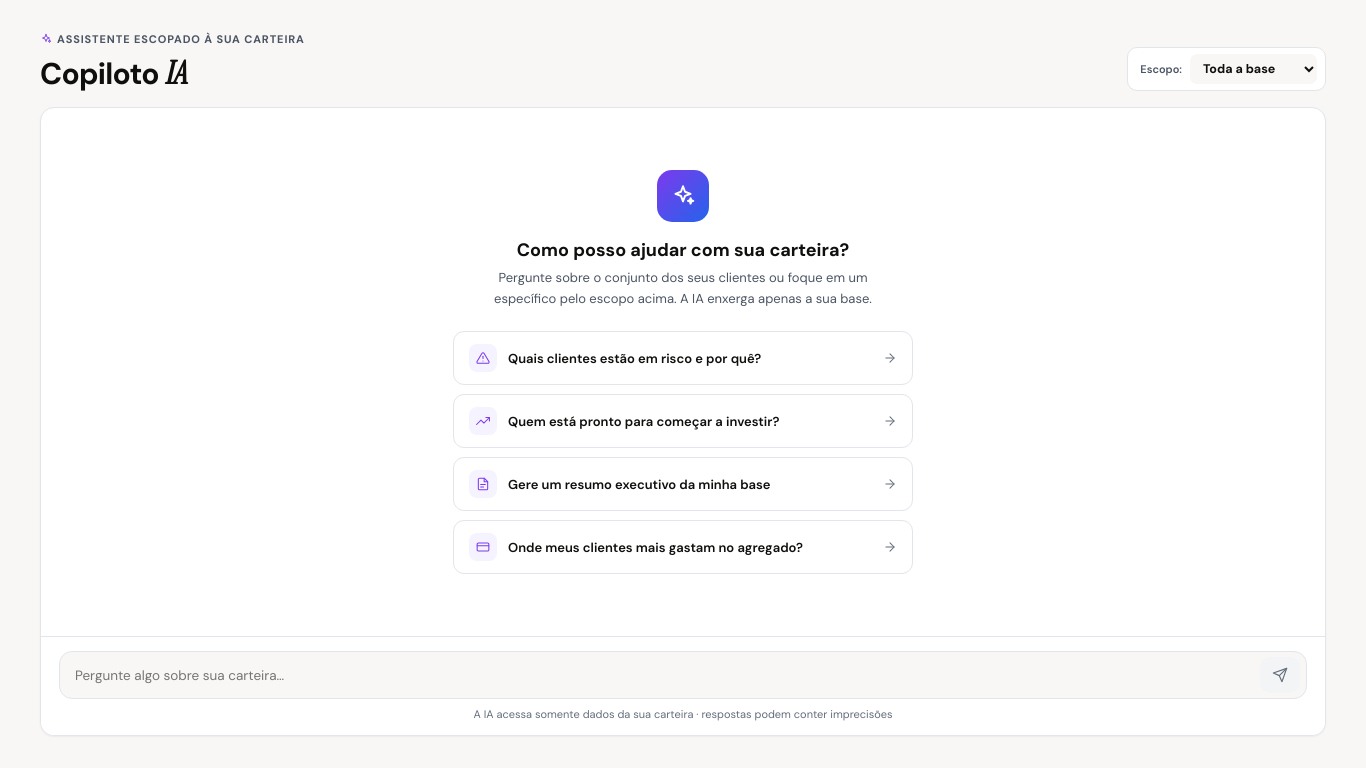
ConsultantCopilotoPage › oferece retentar a mesma pergunta diretamente na mensagem de erro
This screenshot has width=1366, height=768.
In the field named "Mensagem para o Copiloto": (662, 675) 75,658 -> 1250,692, type "onde gastam?"
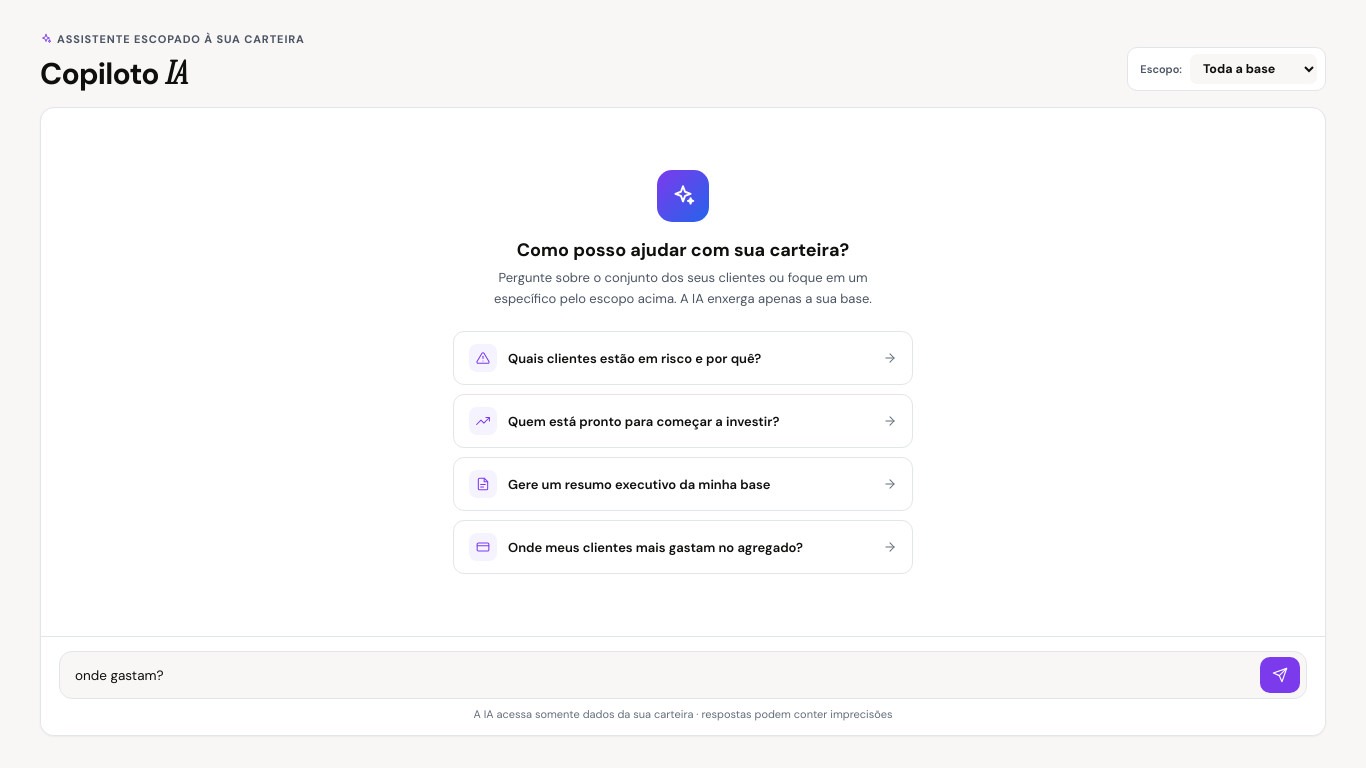
Click the button named "Enviar mensagem": (1280, 675) 1260,657 -> 1300,693
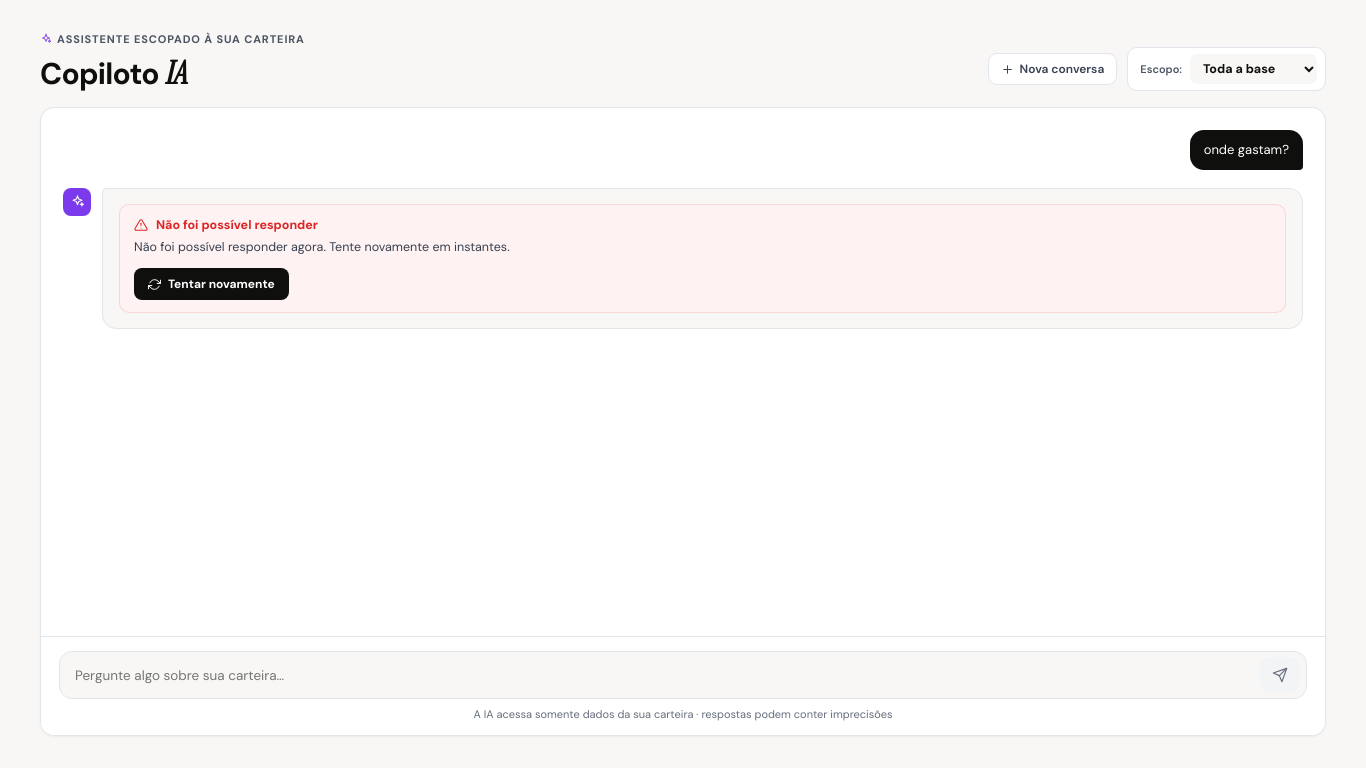
expect the text "onde gastam?" is shown once: met, box 1190,130 -> 1303,170
Click the button "Tentar novamente": (211, 284) 134,268 -> 289,300
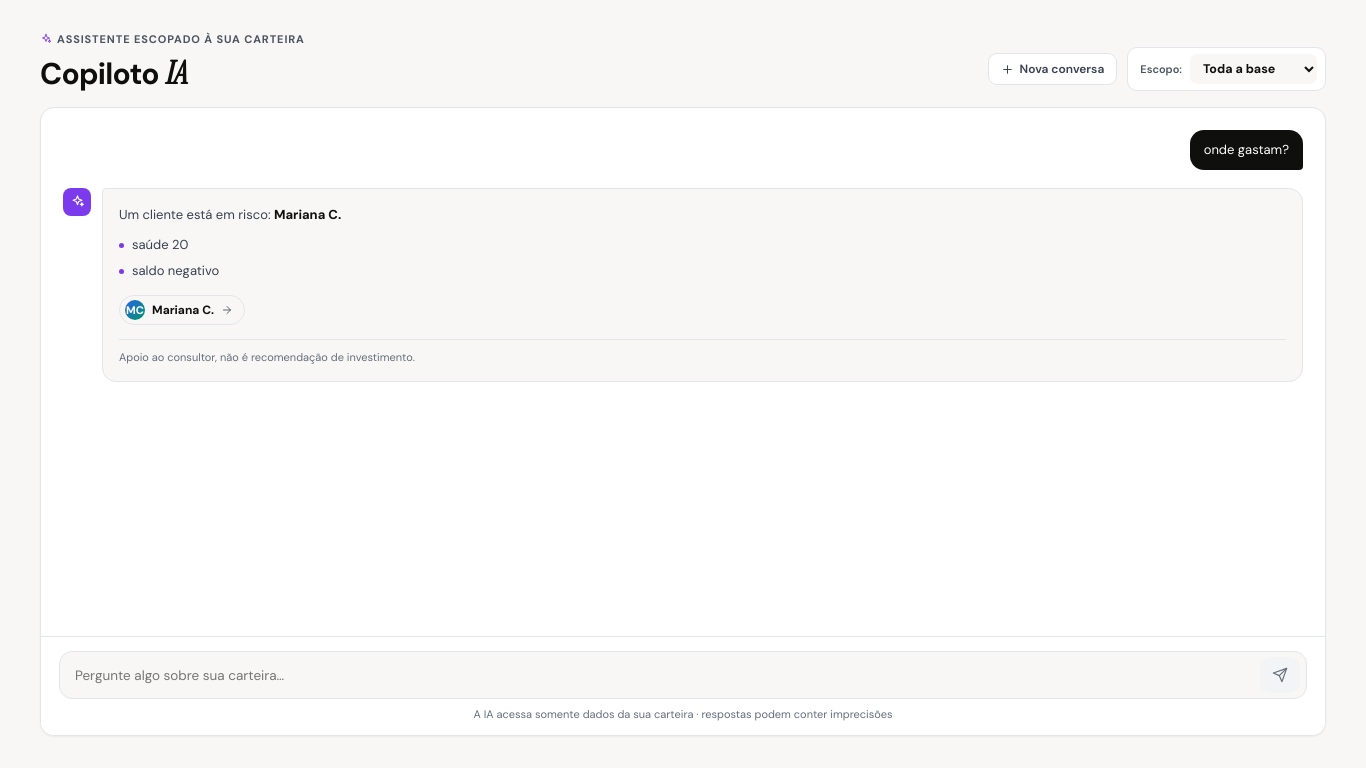
expect the text "Um cliente está em risco: Mariana C." is shown: met, box 119,206 -> 341,223
expect the text "onde gastam?" is shown once: met, box 1190,130 -> 1303,170
